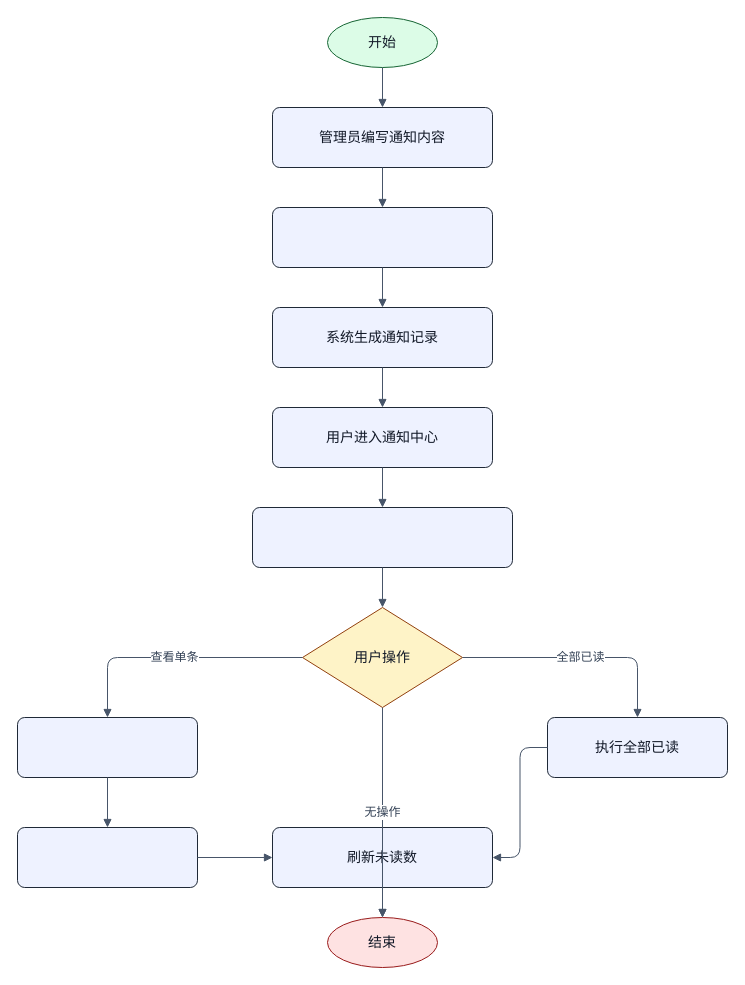
Image size: 745x985. Some labels were removed from this diagram. Each missing label, with the centre of its shape:
加载通知列表和未读数: the point at 382,537
发布通知: the point at 382,237
打开通知详情: the point at 107,747
标记单条已读: the point at 107,857
